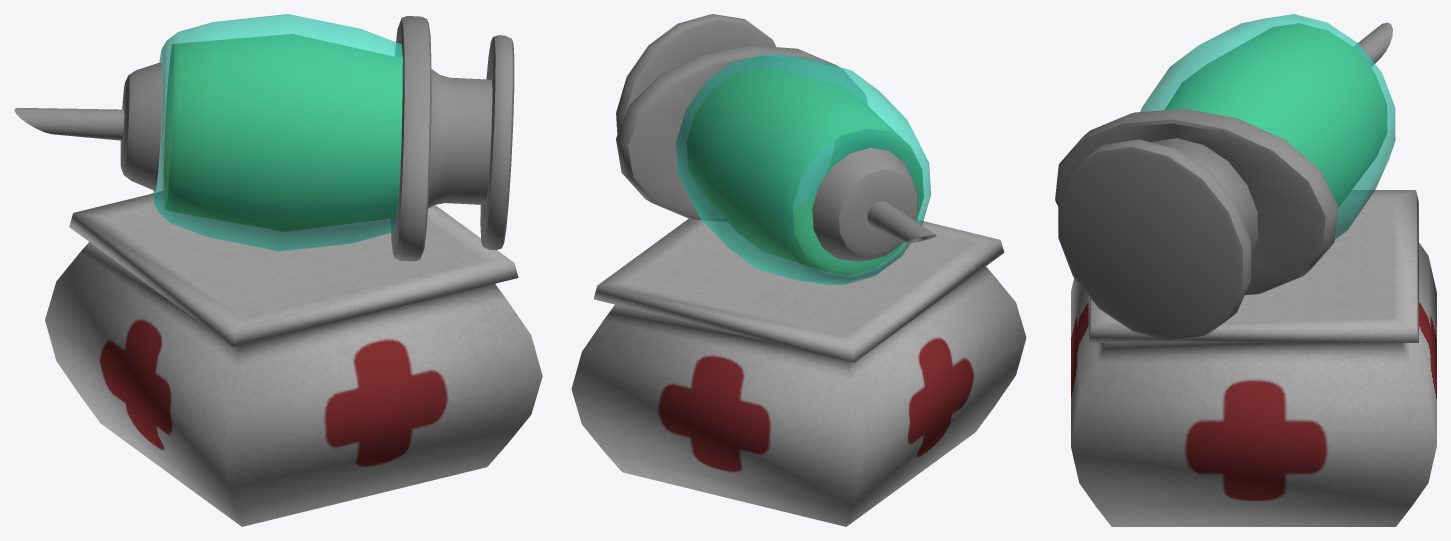
File: Syringe_Pedestal.glb
3 renders of one model, left to right at view 1: azimuth 30°, elevation 25°; view 2: azimuth 150°, elevation 25°; view 3: azimuth 270°, elevation 25°, orthographic. The views are drawn at different scales.
Parts seen in each view (by area): view 1: Cube, Cylinder, Cylinder.002; view 2: Cube, Cylinder, Cylinder.002; view 3: Cube, Cylinder.002, Cylinder.
Part boxes in pixels (<box>): Cube: <box>45,191,542,526</box>; Cylinder: <box>14,14,402,251</box>; Cylinder.002: <box>391,16,514,261</box>; Cube: <box>571,218,1026,526</box>; Cylinder: <box>676,54,936,285</box>; Cylinder.002: <box>616,14,867,221</box>; Cube: <box>1071,190,1436,526</box>; Cylinder.002: <box>1055,109,1338,340</box>; Cylinder: <box>1140,14,1395,239</box>.
Size of the model in its own units: 1.64 by 1.57 by 1.29.
Materials: 4 (4 with a texture image).
